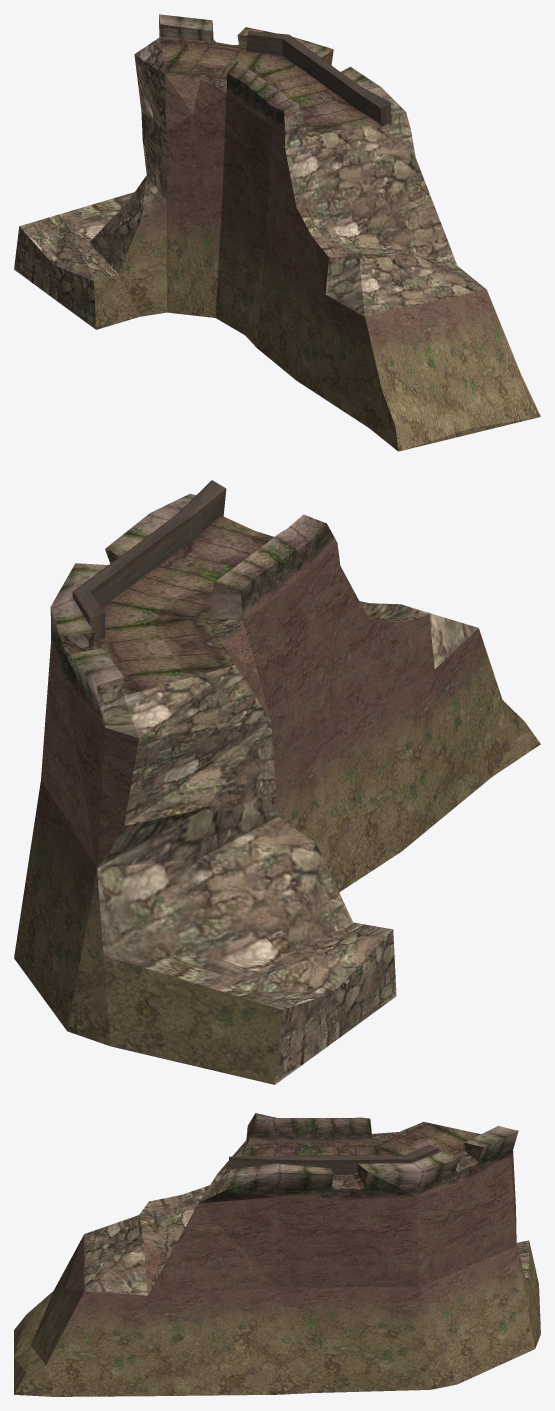
The model's file is C1SMOFORTEND_H.obj.
The picture shows the model from 3 angles, top to bottom: view 1: azimuth 30°, elevation 25°; view 2: azimuth 150°, elevation 25°; view 3: azimuth 270°, elevation 25°; orthographic projection. The views are drawn at different scales.
Parts seen in each view (by area): view 1: Node 0; view 2: Node 0; view 3: Node 0.
Boxes of the visible parts, x1,y1,x2,y2 form: Node 0: [14, 14, 540, 451]; Node 0: [14, 480, 540, 1084]; Node 0: [14, 1113, 540, 1396].
Size of the model in its own units: 10.68 by 10.01 by 21.06.
Materials: 4 (4 with a texture image).
